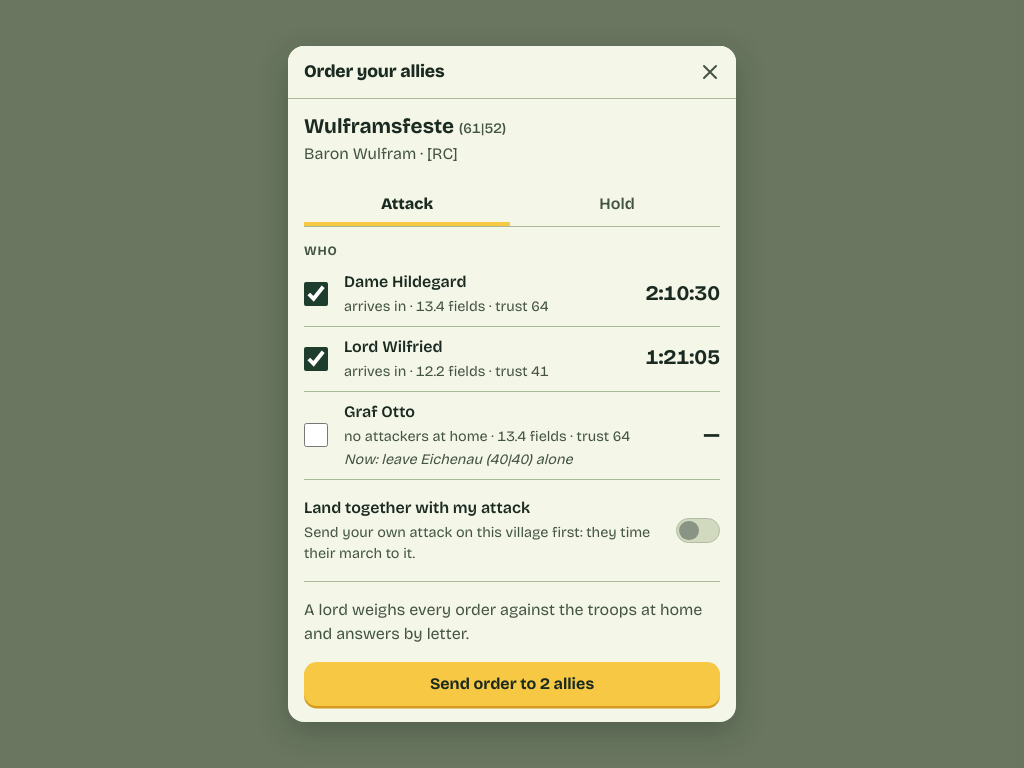
Test: OrderSheet › shows no travel time and no "land together" for Hold
Click the button "Hold": [617, 204] box [514,182,720,226]
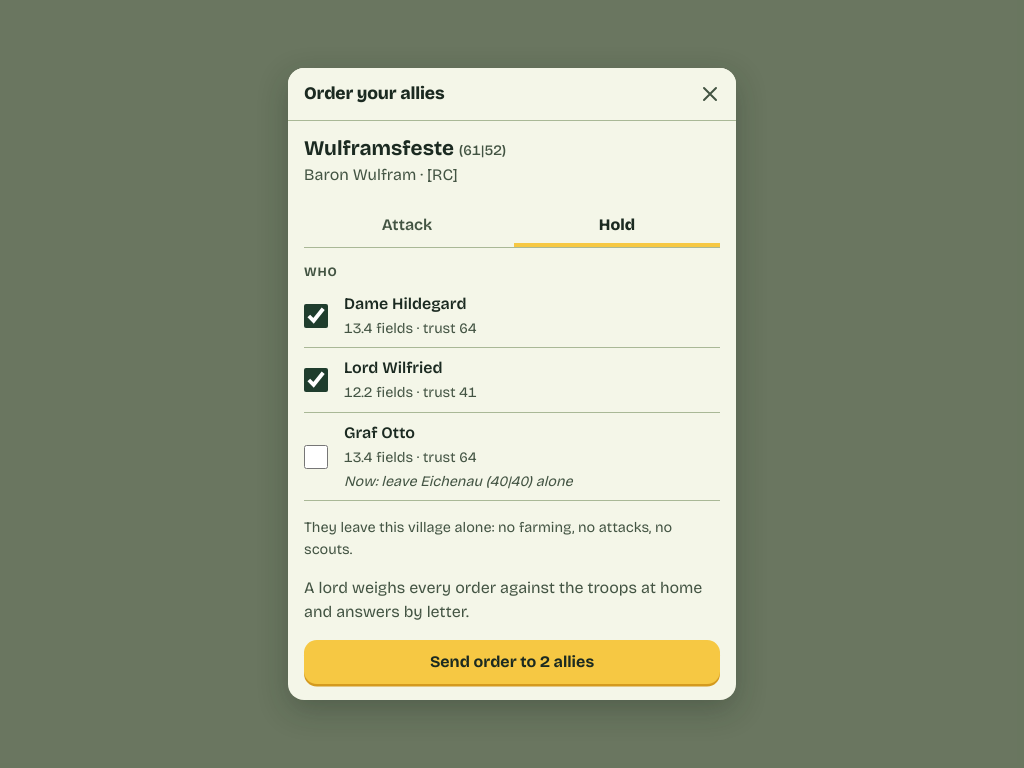
Expected: the switch is gone
Expected: the text "2:10:30" is gone
Expected: the text "They leave this village alone" is shown, [304,519,672,558]
